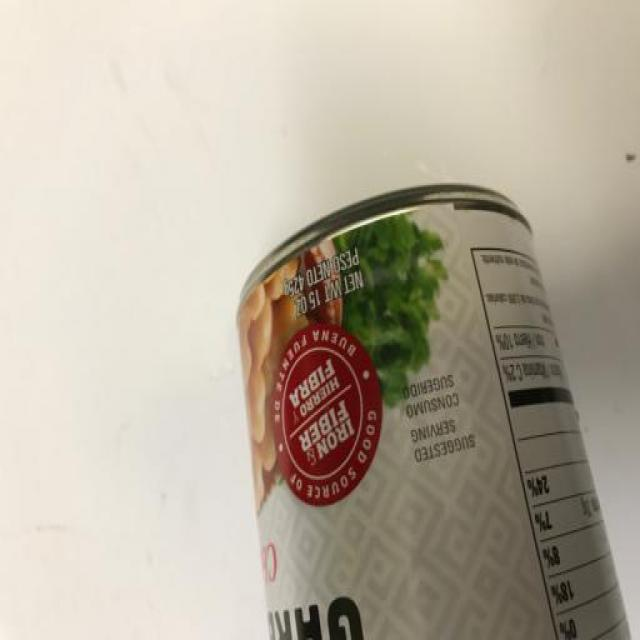metel: (201, 162, 640, 640)
